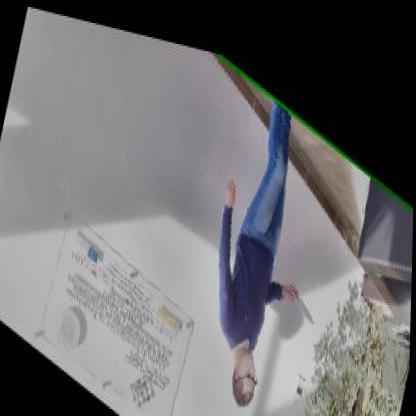knife: (286, 261, 320, 308)
